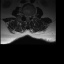CCS_normal: (27, 13, 28, 20)
LFS_normal: (30, 14, 32, 18)
LLS_normal: (28, 14, 30, 19)
RFS_normal: (23, 13, 25, 17)
RLS_normal: (25, 14, 27, 19)
